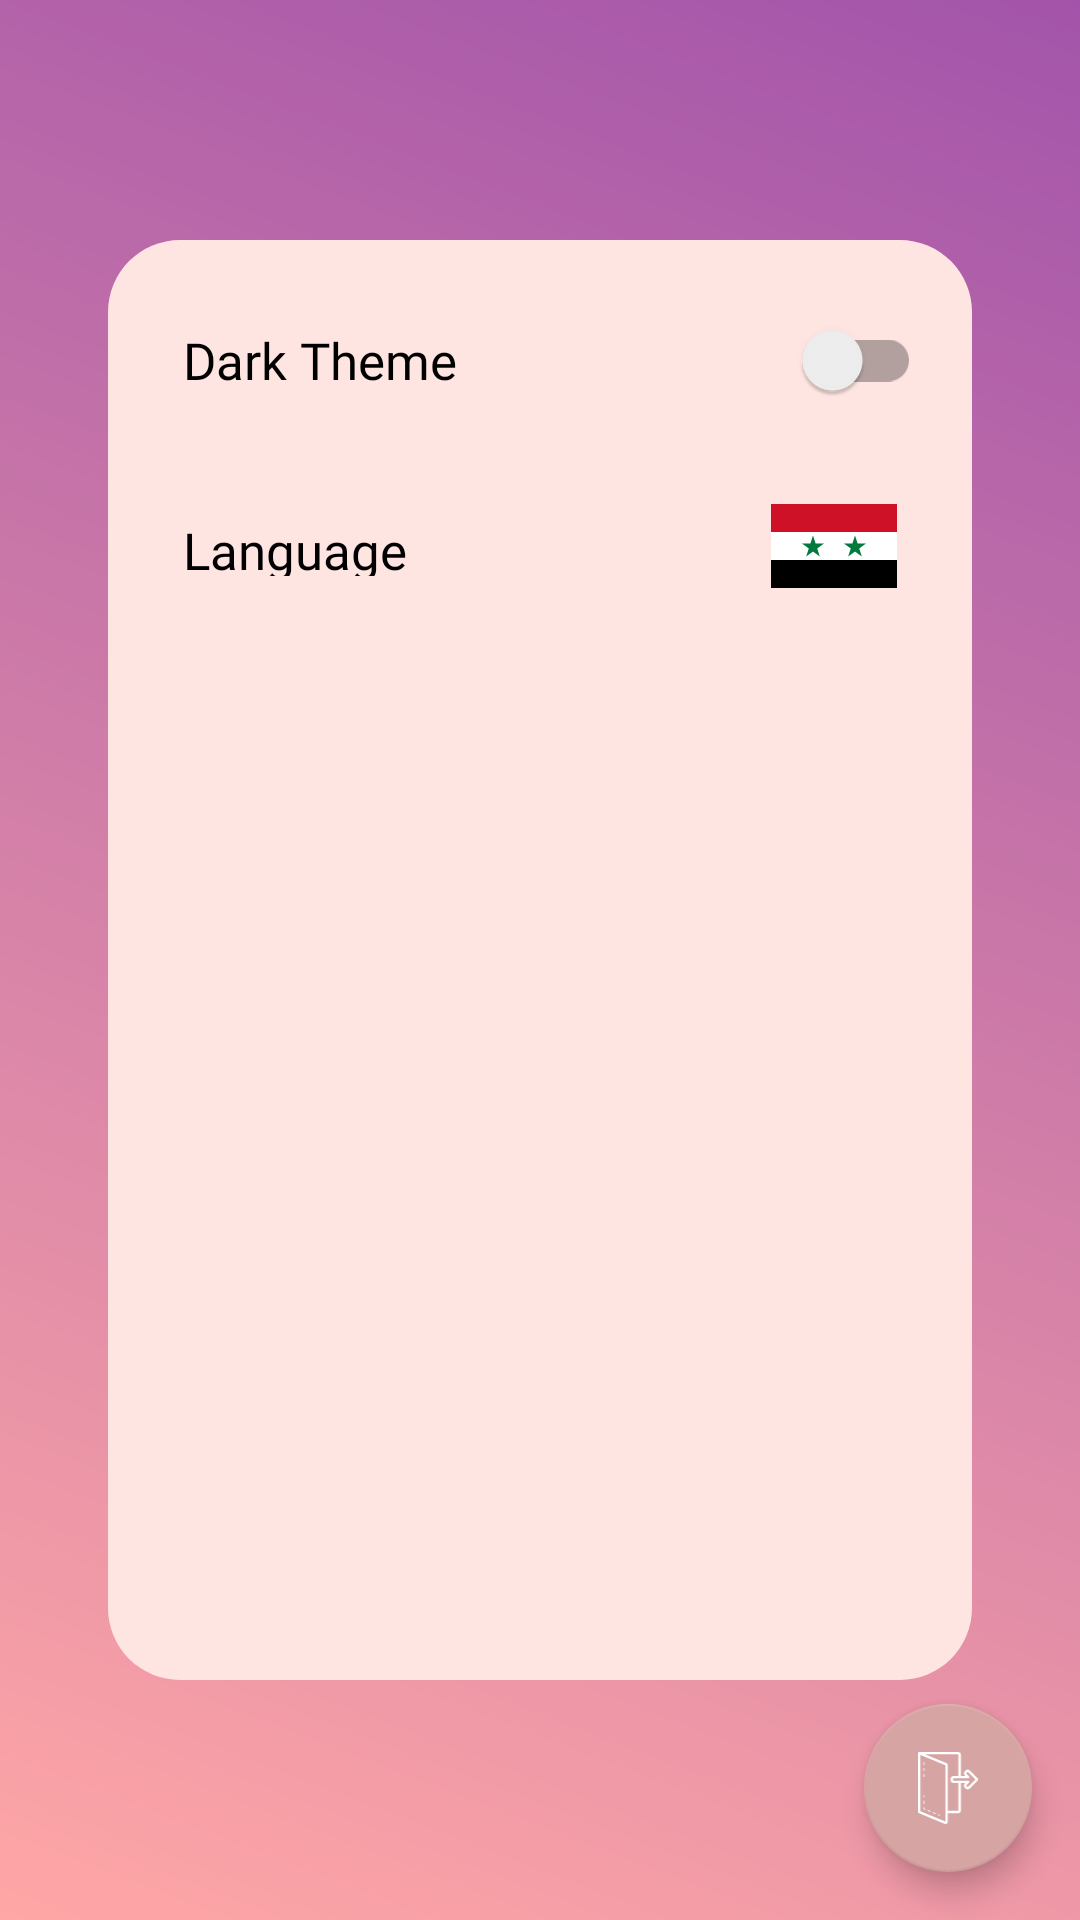

Screen size 1080px×1920px. Icon name, then its box in pixels as [x1, y1, x2, y2]:
flag of syria: [771, 504, 897, 588]
